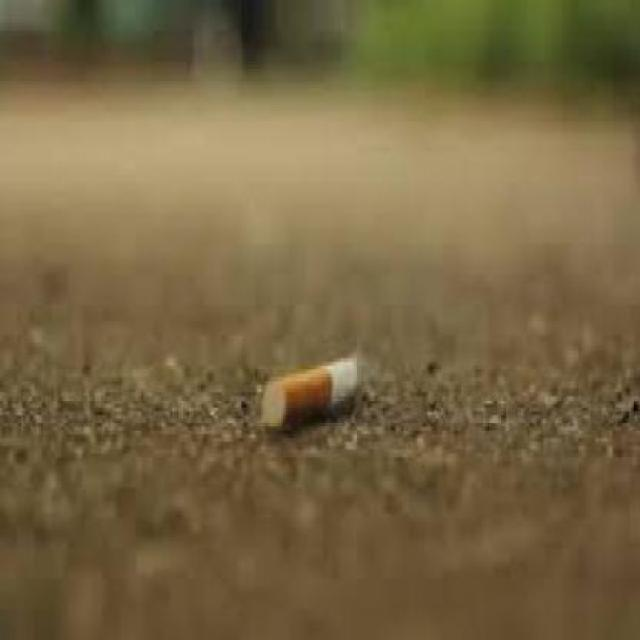cigarette: (264, 335, 359, 431)
